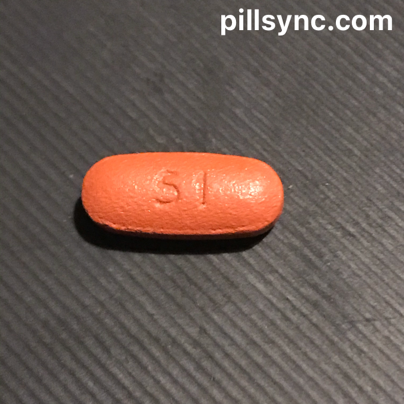Ibuprofen 200 MG Oral Tablet: (70, 146, 289, 252)
